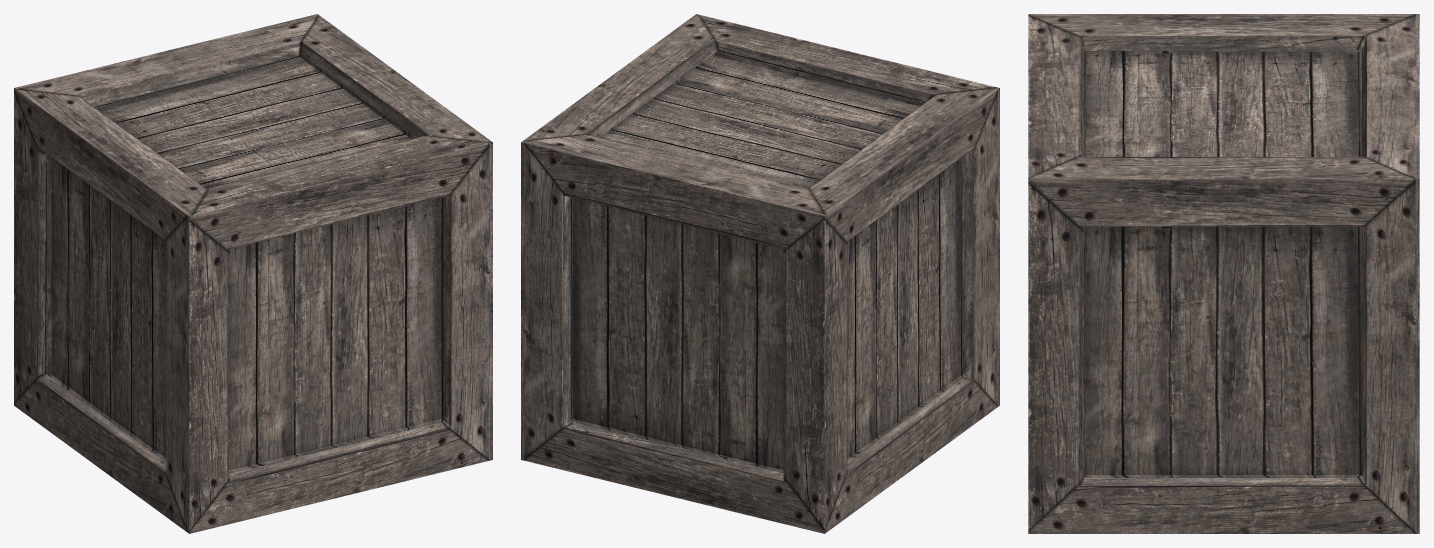
The model's file is Crate2.fbx.
3 renders of one model, left to right at view 1: azimuth 30°, elevation 25°; view 2: azimuth 150°, elevation 25°; view 3: azimuth 270°, elevation 25°, orthographic. The views are drawn at different scales.
Parts seen in each view (by area): view 1: box:pCube1; view 2: box:pCube1; view 3: box:pCube1.
Part boxes in pixels (left/top/right/bottom): box:pCube1: left=14, top=14, right=492, bottom=533; box:pCube1: left=521, top=14, right=999, bottom=533; box:pCube1: left=1028, top=14, right=1419, bottom=533.
Bounding box in the file's own units: 5 × 5 × 5.
